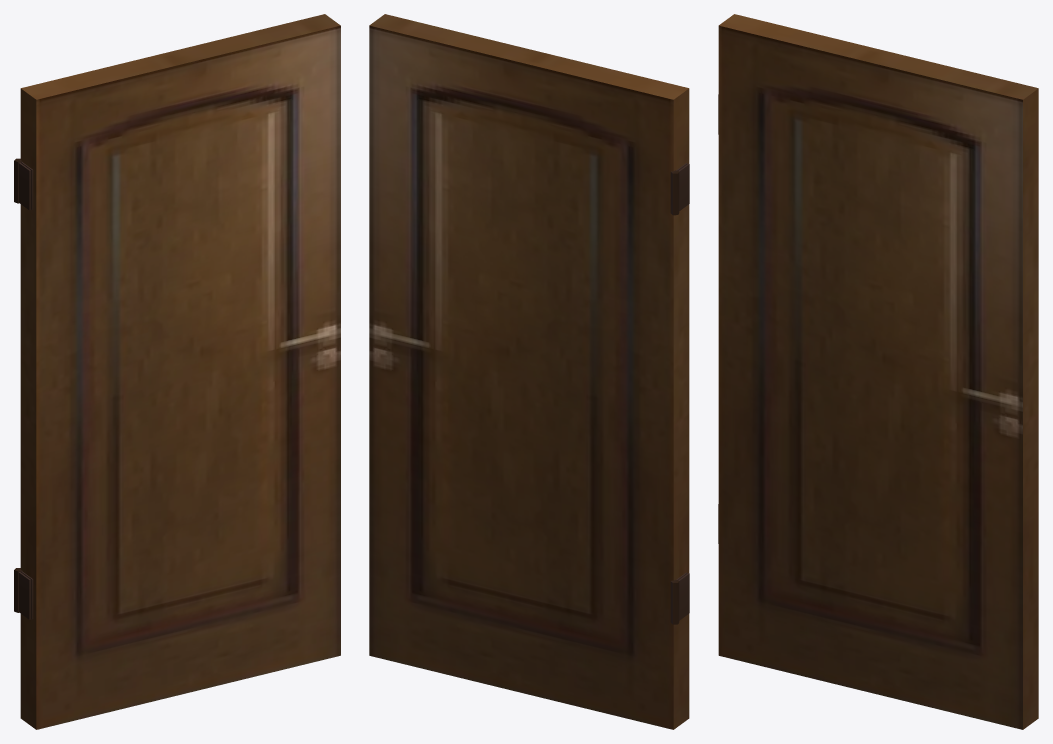
The model's file is door-transformed.glb.
3 views of the same model, side by side, from view 1: azimuth 30°, elevation 25°; view 2: azimuth 150°, elevation 25°; view 3: azimuth 330°, elevation 25° (orthographic).
Parts seen in each view (by area): view 1: Cube_Material_0, Cylinder.001_Material.016_0; view 2: Cube_Material_0, Cylinder.001_Material.016_0; view 3: Cube_Material_0.
Boxes of the visible parts, x1,y1,x2,y2 form: Cube_Material_0: (14, 14, 340, 729); Cylinder.001_Material.016_0: (14, 568, 33, 619); Cube_Material_0: (369, 14, 689, 729); Cylinder.001_Material.016_0: (670, 572, 689, 624); Cube_Material_0: (718, 14, 1038, 729).
Size of the model in its own units: 1.03 by 2 by 0.1053.
Materials: 2 (2 with a texture image).
